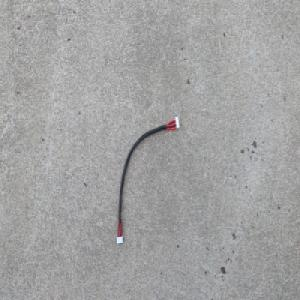Wire: (115, 114, 180, 244)
